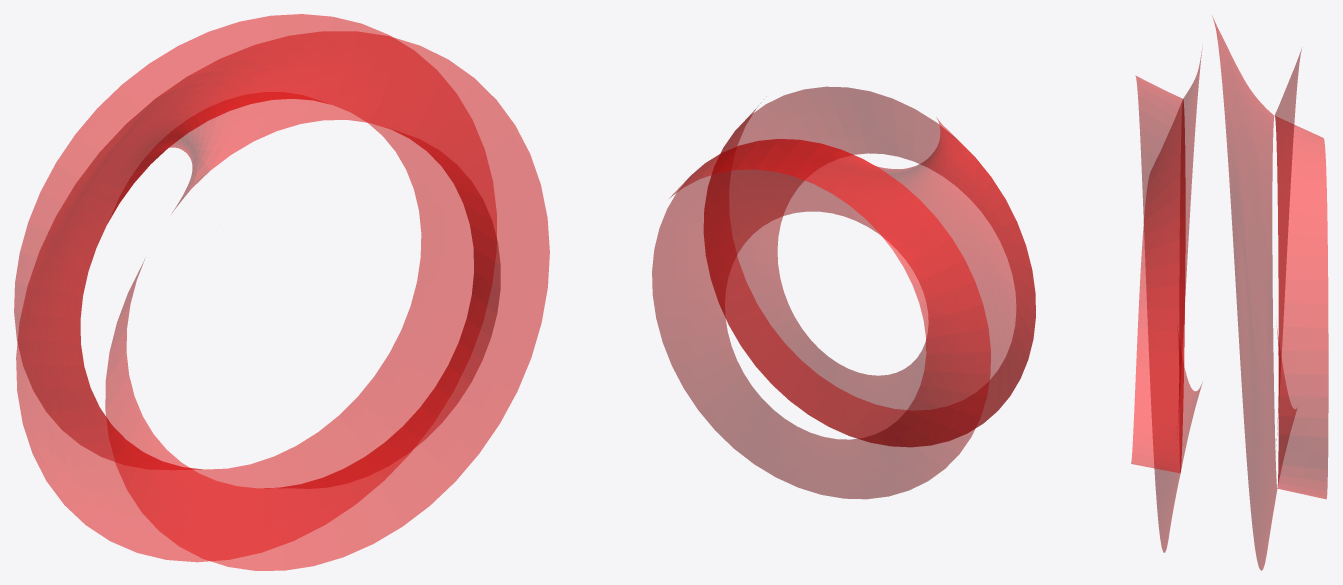
File: l6_1_3_website.glb
3 renders of one model, left to right at view 1: azimuth 30°, elevation 25°; view 2: azimuth 150°, elevation 25°; view 3: azimuth 270°, elevation 25°, orthographic. The views are drawn at different scales.
Parts seen in each view (by area): view 1: l6_1; view 2: l6_1; view 3: l6_1.
Boxes of the visible parts, left/top/right/bottom form: l6_1: left=14, top=14, right=549, bottom=570; l6_1: left=652, top=86, right=1035, bottom=499; l6_1: left=1131, top=16, right=1328, bottom=570.
Bounding box in the file's own units: 155 × 157 × 55.93.
